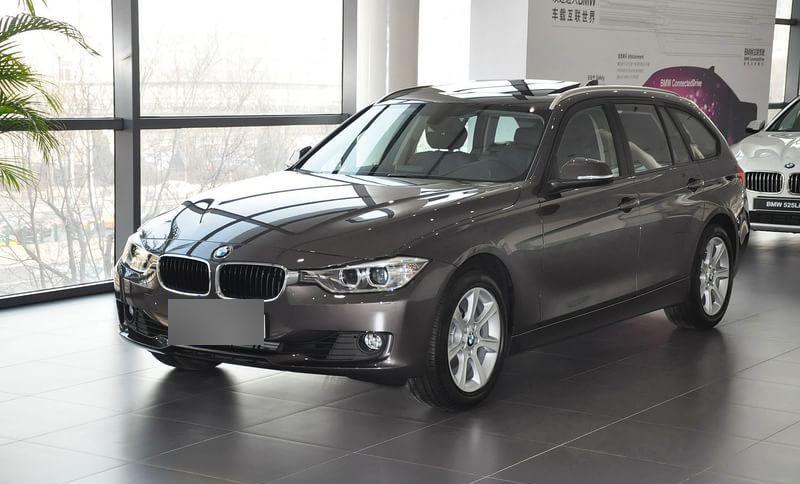Wagon: (112, 76, 753, 413)
